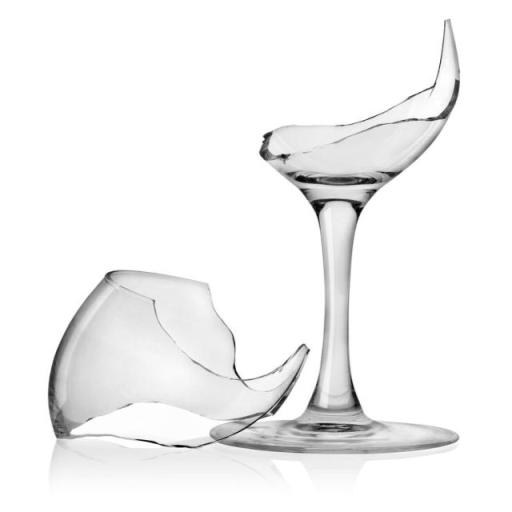glass: (237, 22, 461, 440), (48, 267, 309, 445)
